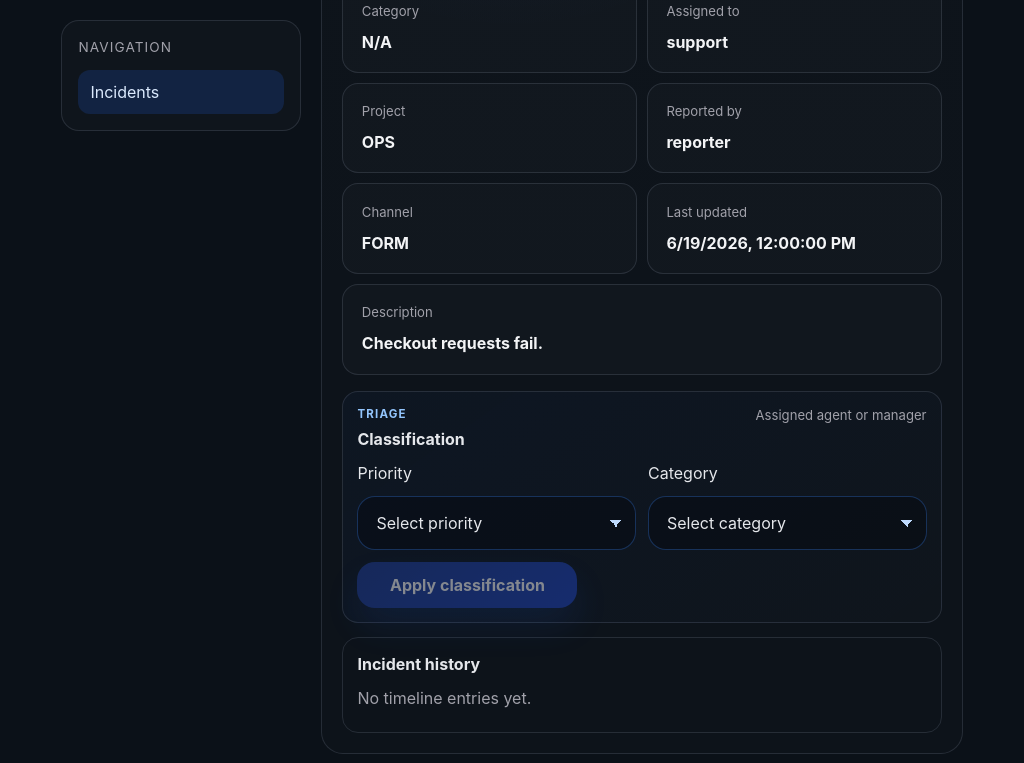
Test: role-aware incident actions › allows the assigned agent to classify an incident
The width and height of the screenshot is (1024, 763).
(page scrolled)
Select "CRITICAL" in the dropdown labelled "Priority" at point(497, 523), box 357,496 -> 636,550
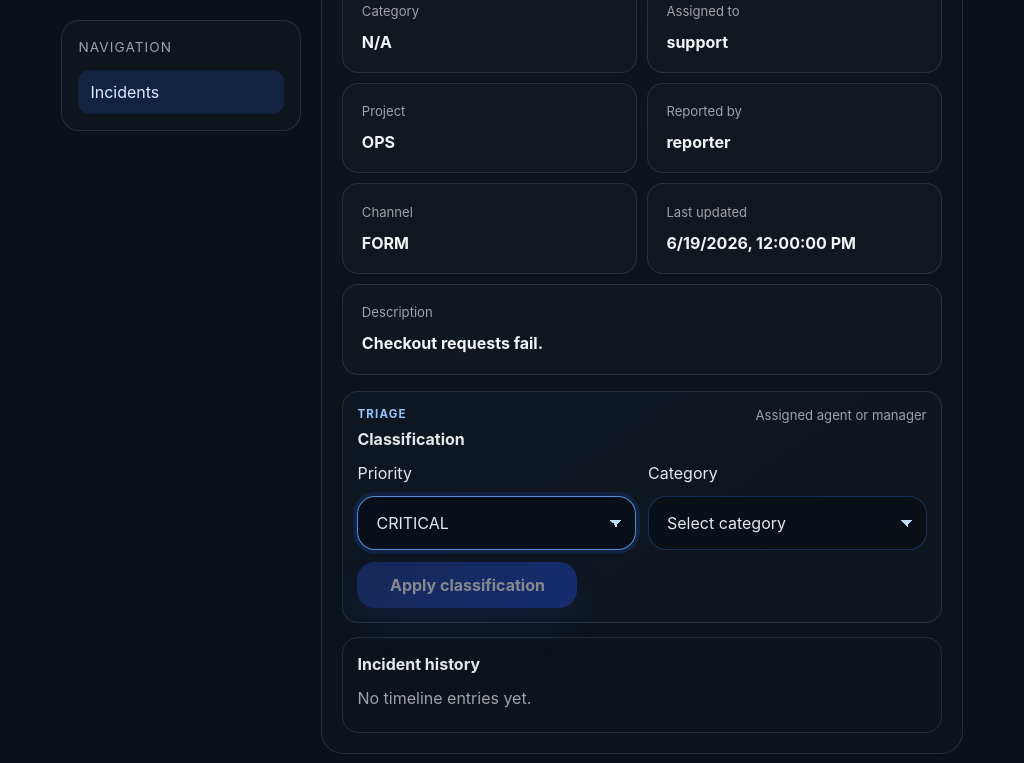
Select "SECURITY" in the dropdown labelled "Category" at point(788, 523), box 648,496 -> 927,550
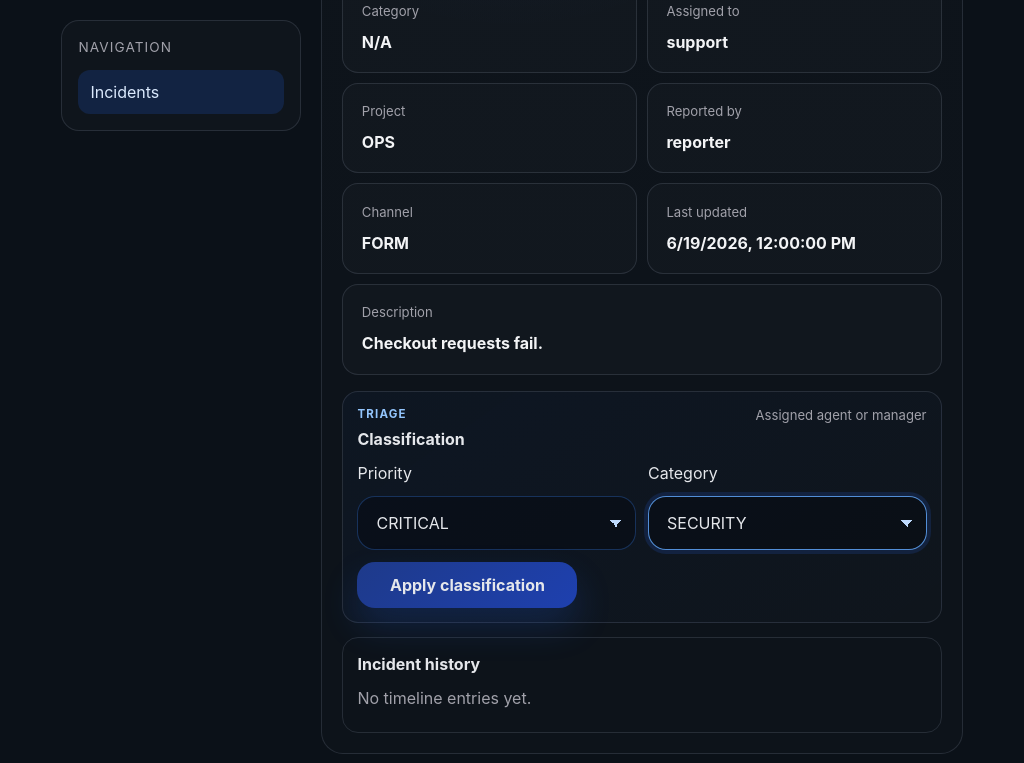
Click the button "Apply classification".
click(467, 585)  # box 357,562 -> 577,608
(page scrolled)
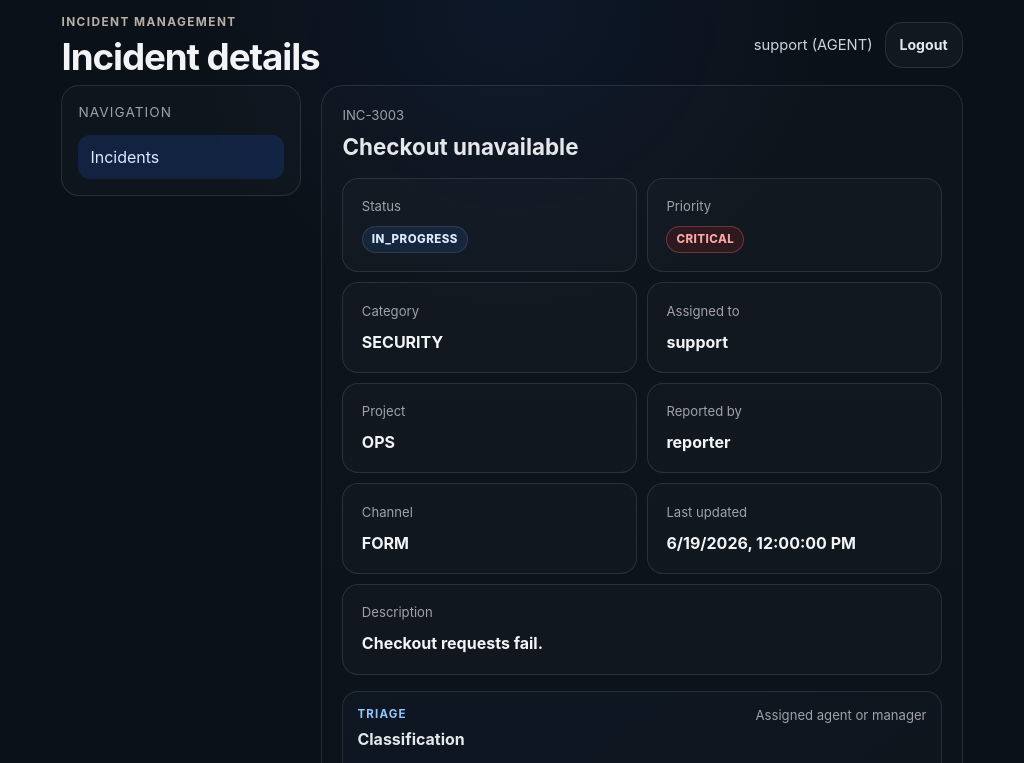
Expected: the text "CRITICAL" is shown, 666,226 -> 744,253
Expected: the text "SECURITY" is shown, 362,332 -> 443,352
